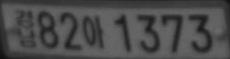1: (111, 13, 134, 53)
2: (60, 11, 82, 49)
3: (187, 12, 213, 53), (137, 13, 161, 53)
7: (161, 13, 184, 53)
8: (38, 10, 59, 49)
경남_V: (13, 9, 38, 49)
아: (83, 15, 105, 49)
